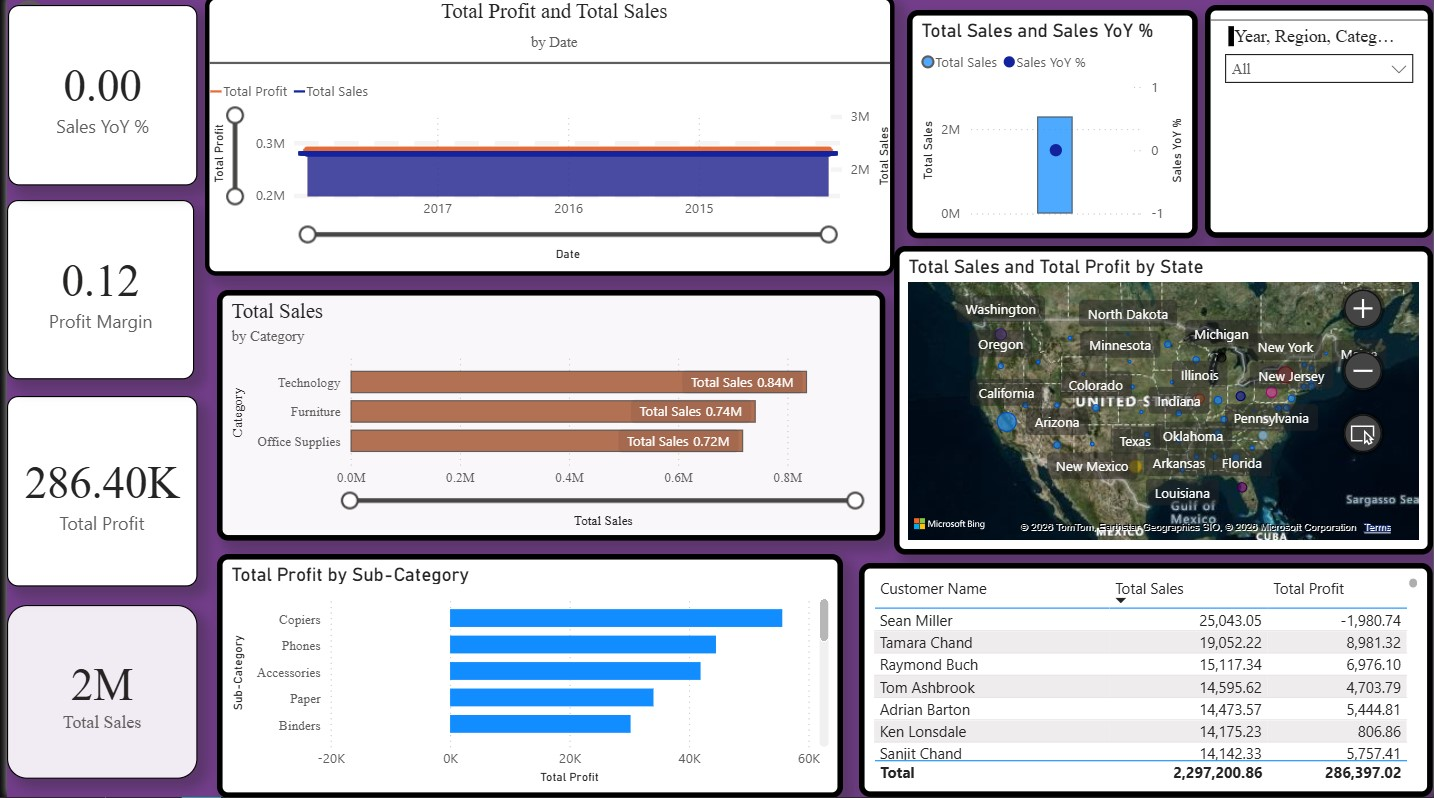

The page's visual inventory and layout, read from the dashboard file:
{"tool":"powerbi","page":{"name":"Page 1","canvas":[1280,720],"ordinal":0},"visuals":[{"type":"actionButton","box":[0,0,100,40],"z":0},{"type":"card","fields":{"Values":["DateTable.Total Sales"]},"box":[0,547.6,170.6,156.2],"z":1000},{"type":"card","fields":{"Values":["DateTable.Total Profit"]},"box":[0,360,170.6,171.5],"z":2000},{"type":"card","fields":{"Values":["DateTable.Profit Margin"]},"box":[0,184,167.9,160.7],"z":3000},{"type":"card","fields":{"Values":["DateTable.Sales YoY %"]},"box":[0.9,9,169.7,161.6],"z":4000},{"type":"lineChart","fields":{"Y2":["DateTable.Total Sales"],"Y":["DateTable.Total Profit"],"Category":["DateTable.Date"]},"box":[178.1,0,618.8,251.9],"z":5000},{"type":"lineClusteredColumnComboChart","fields":{"Y":["DateTable.Total Sales"],"Y2":["DateTable.Sales YoY %"]},"box":[808.6,20.1,209.8,198.3],"z":6000},{"type":"slicer","fields":{"Values":["Sample - Superstore.Order Date.Variation.Date Hierarchy.Year","Sample - Superstore.Region","Sample - Superstore.Category","Sample - Superstore.Segment","Sample - Superstore.Ship Mode"]},"box":[1055.8,30.7,206,188.7],"z":7000},{"type":"barChart","fields":{"Category":["Sample - Superstore.Category"],"Y":["DateTable.Total Sales"]},"box":[188.7,264.4,599.8,225.1],"z":8000},{"type":"barChart","fields":{"Category":["Sample - Superstore.Sub-Category"],"Y":["DateTable.Total Profit"]},"box":[198.3,502,551.9,218.4],"z":9000},{"type":"map","fields":{"Category":["Sample - Superstore.State"],"Size":["DateTable.Total Sales"]},"box":[796.2,225.1,483.8,276.9],"z":9001},{"type":"tableEx","fields":{"Values":["Sample - Superstore.Customer Name","DateTable.Total Sales","DateTable.Total Profit"]},"box":[788.5,508.7,481,211.7],"z":9002}]}

Visuals, with their boxes in screenshot pixels (x1, y1, x2, y2), scaled from the page's 1280x720 canvas onto the 1434x798 screenshot:
actionButton: region(0, 0, 112, 44)
card - DateTable.Total Sales: region(0, 607, 191, 780)
card - DateTable.Total Profit: region(0, 399, 191, 589)
card - DateTable.Profit Margin: region(0, 204, 188, 382)
card - DateTable.Sales YoY %: region(1, 10, 191, 189)
lineChart - DateTable.Total Sales x DateTable.Total Profit: region(200, 0, 893, 279)
lineClusteredColumnComboChart - DateTable.Total Sales x DateTable.Sales YoY %: region(906, 22, 1141, 242)
slicer - Sample - Superstore.Order Date.Variation.Date Hierarchy.Year x Sample - Superstore.Region: region(1183, 34, 1414, 243)
barChart - Sample - Superstore.Category x DateTable.Total Sales: region(211, 293, 883, 543)
barChart - Sample - Superstore.Sub-Category x DateTable.Total Profit: region(222, 556, 840, 797)
map - Sample - Superstore.State x DateTable.Total Sales: region(892, 249, 1433, 556)
tableEx - Sample - Superstore.Customer Name x DateTable.Total Sales: region(883, 564, 1422, 797)
